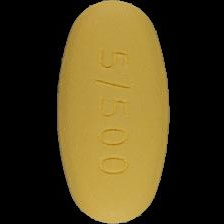49999-401: (0, 0, 224, 224)
